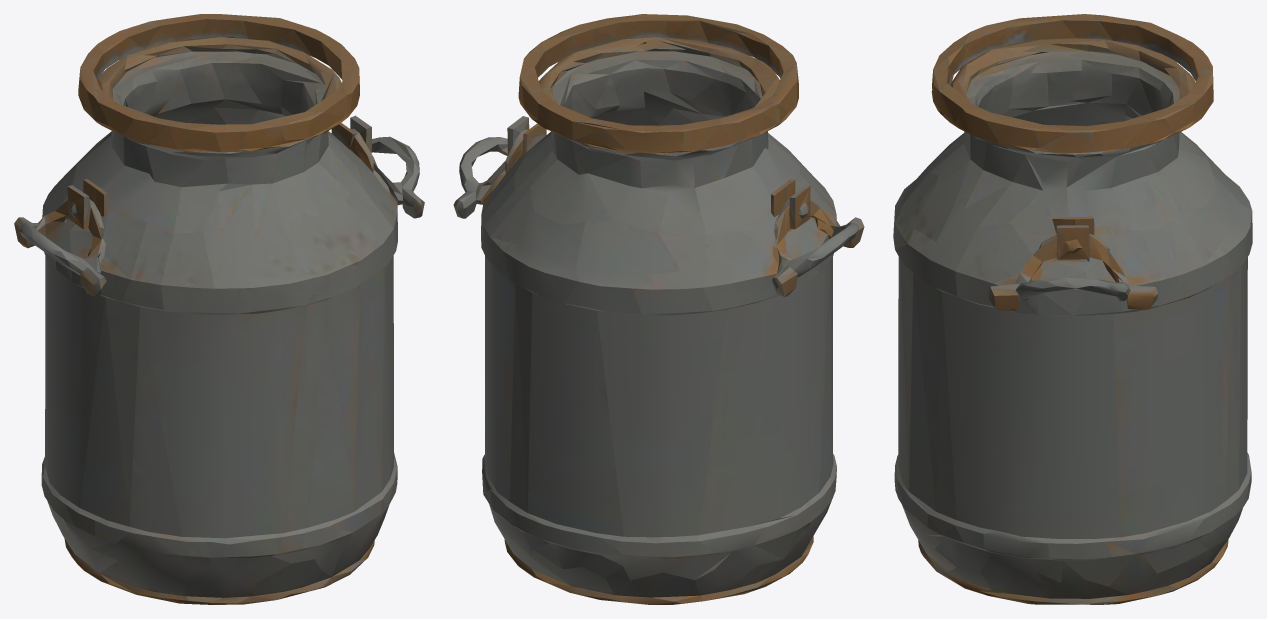
File: milkcan.glb
The picture shows the model from 3 angles, left to right: view 1: azimuth 30°, elevation 25°; view 2: azimuth 150°, elevation 25°; view 3: azimuth 270°, elevation 25°; orthographic projection.
Bounding box in the file's own units: 1.6 × 1.9 × 1.31.
Materials: 1 (1 with a texture image).
